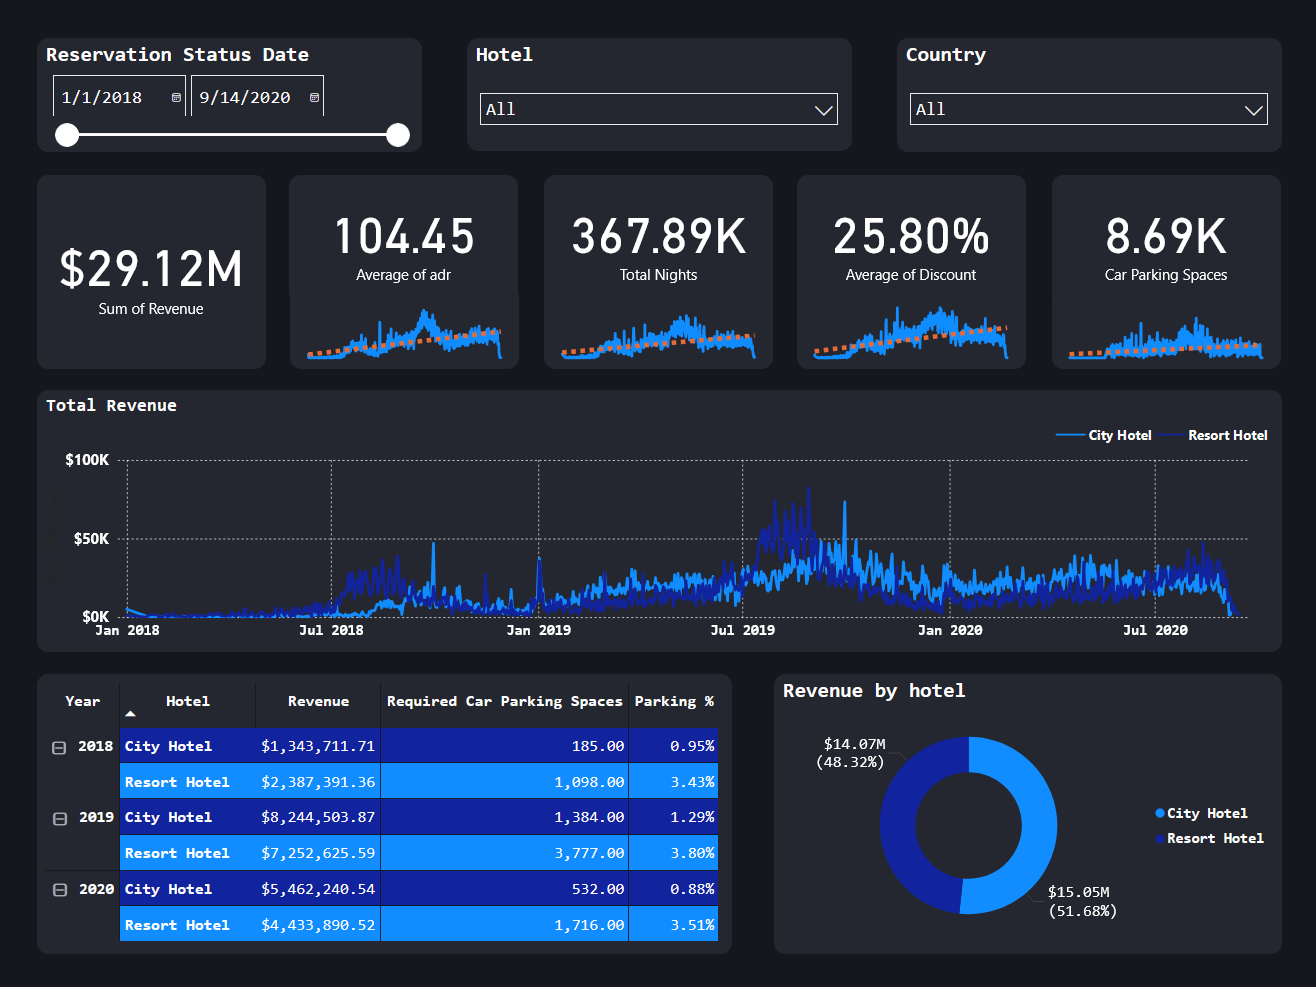

What the dashboard file says about the page in this screenshot:
{"tool":"powerbi","page":{"name":"Page 1","canvas":[1440,1080],"ordinal":0},"visuals":[{"type":"card","fields":{"Values":["Avg(Query1.adr)"]},"box":[316.8,190.9,250.3,139.9],"z":0},{"type":"card","fields":{"Values":["Query1.Total Nights"]},"box":[594.3,190.9,250.3,139.9],"z":1000},{"type":"card","fields":{"Values":["Avg(Query1.Discount)"]},"box":[870.3,190.9,250.3,139.9],"z":2000},{"type":"card","title":"Revenue","fields":{"Values":["Sum(Query1.Revenue)"]},"box":[40.3,190.9,250.3,211.7],"z":3000},{"type":"lineChart","title":"Total Revenue","fields":{"Category":["Query1.reservation_status_date"],"Y":["Sum(Query1.Revenue)"],"Series":["Query1.hotel"]},"box":[40.5,425.2,1358.3,285.3],"z":4000},{"type":"lineChart","fields":{"Category":["Query1.reservation_status_date"],"Y":["Sum(Query1.required_car_parking_spaces)"]},"box":[1148.7,312.3,250,90.2],"z":5000},{"type":"slicer","title":"Country","fields":{"Values":["Query1.country"]},"box":[979.1,40.5,420,125],"z":6000},{"type":"slicer","title":"Hotel","fields":{"Values":["Query1.hotel"]},"box":[509.8,40.5,420,123.3],"z":7000},{"type":"card","fields":{"Values":["Sum(Query1.required_car_parking_spaces)"]},"box":[1148.3,190.9,250.3,139.9],"z":8000},{"type":"lineChart","fields":{"Category":["Query1.reservation_status_date"],"Y":["Sum(Query1.adr)"]},"box":[317.2,312.3,250,90.2],"z":9000},{"type":"lineChart","fields":{"Category":["Query1.reservation_status_date"],"Y":["Query1.Total Nights"]},"box":[594.3,312.3,250,90.2],"z":10000},{"type":"lineChart","fields":{"Category":["Query1.reservation_status_date"],"Y":["Sum(Query1.Discount)"]},"box":[870.4,312.3,250,90.2],"z":11000},{"type":"donutChart","title":"Revenue by hotel","fields":{"Category":["Query1.hotel"],"Y":["Sum(Query1.Revenue)"]},"box":[844.8,734.4,554,305.5],"z":12000},{"type":"pivotTable","fields":{"Rows":["Query1.reservation_status_date.Variation.Date Hierarchy.Year","Query1.hotel"],"Values":["Sum(Query1.Revenue)","Sum(Query1.required_car_parking_spaces)","Query1.Parking Percentage"]},"box":[40.5,734.4,758.3,305.5],"z":13000},{"type":"slicer","title":"Reservation Status Date","fields":{"Values":["Query1.reservation_status_date"]},"box":[40.5,40.5,420,125],"z":14000}]}

Visuals, with their boxes in screenshot pixels (x1, y1, x2, y2), scaled from the page's 1440x1080 canvas onto the 1316x987 screenshot:
card - Avg(Query1.adr): 290/174/518/302
card - Query1.Total Nights: 543/174/772/302
card - Avg(Query1.Discount): 795/174/1024/302
"Revenue" card: 37/174/266/368
"Total Revenue" lineChart: 37/389/1278/649
lineChart - Query1.reservation_status_date x Sum(Query1.required_car_parking_spaces): 1050/285/1278/368
"Country" slicer: 895/37/1279/151
"Hotel" slicer: 466/37/850/150
card - Sum(Query1.required_car_parking_spaces): 1049/174/1278/302
lineChart - Query1.reservation_status_date x Sum(Query1.adr): 290/285/518/368
lineChart - Query1.reservation_status_date x Query1.Total Nights: 543/285/772/368
lineChart - Query1.reservation_status_date x Sum(Query1.Discount): 795/285/1024/368
"Revenue by hotel" donutChart: 772/671/1278/950
pivotTable - Query1.reservation_status_date.Variation.Date Hierarchy.Year x Query1.hotel: 37/671/730/950
"Reservation Status Date" slicer: 37/37/421/151
